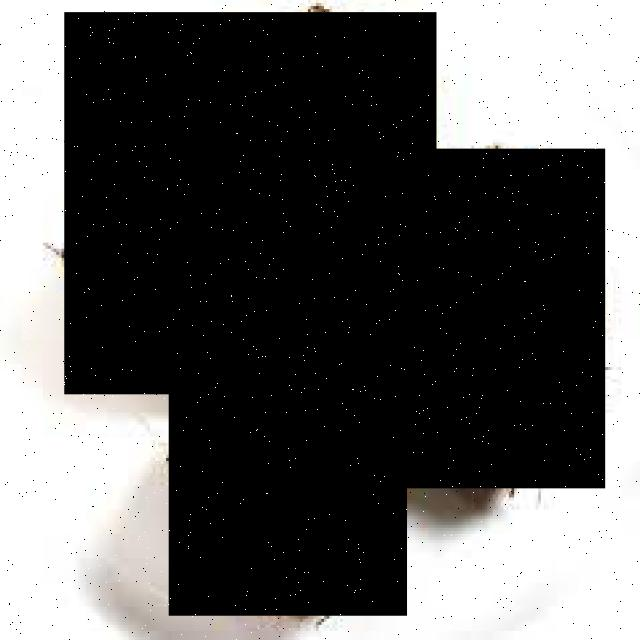Taro_Root: (64, 12, 436, 394), (394, 149, 605, 488), (169, 349, 407, 616)
